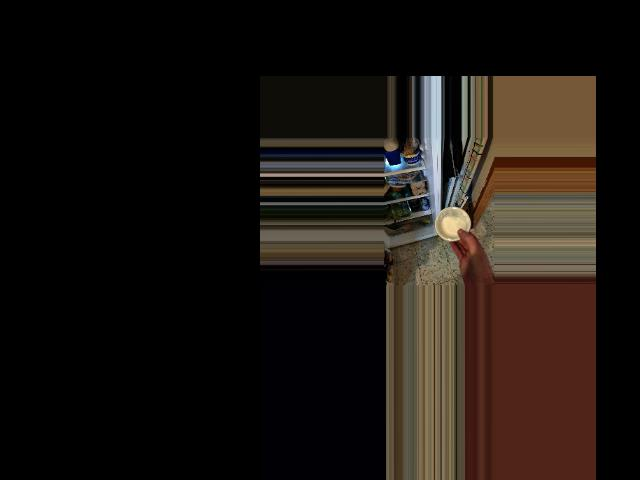cotage: (436, 206, 468, 237)
